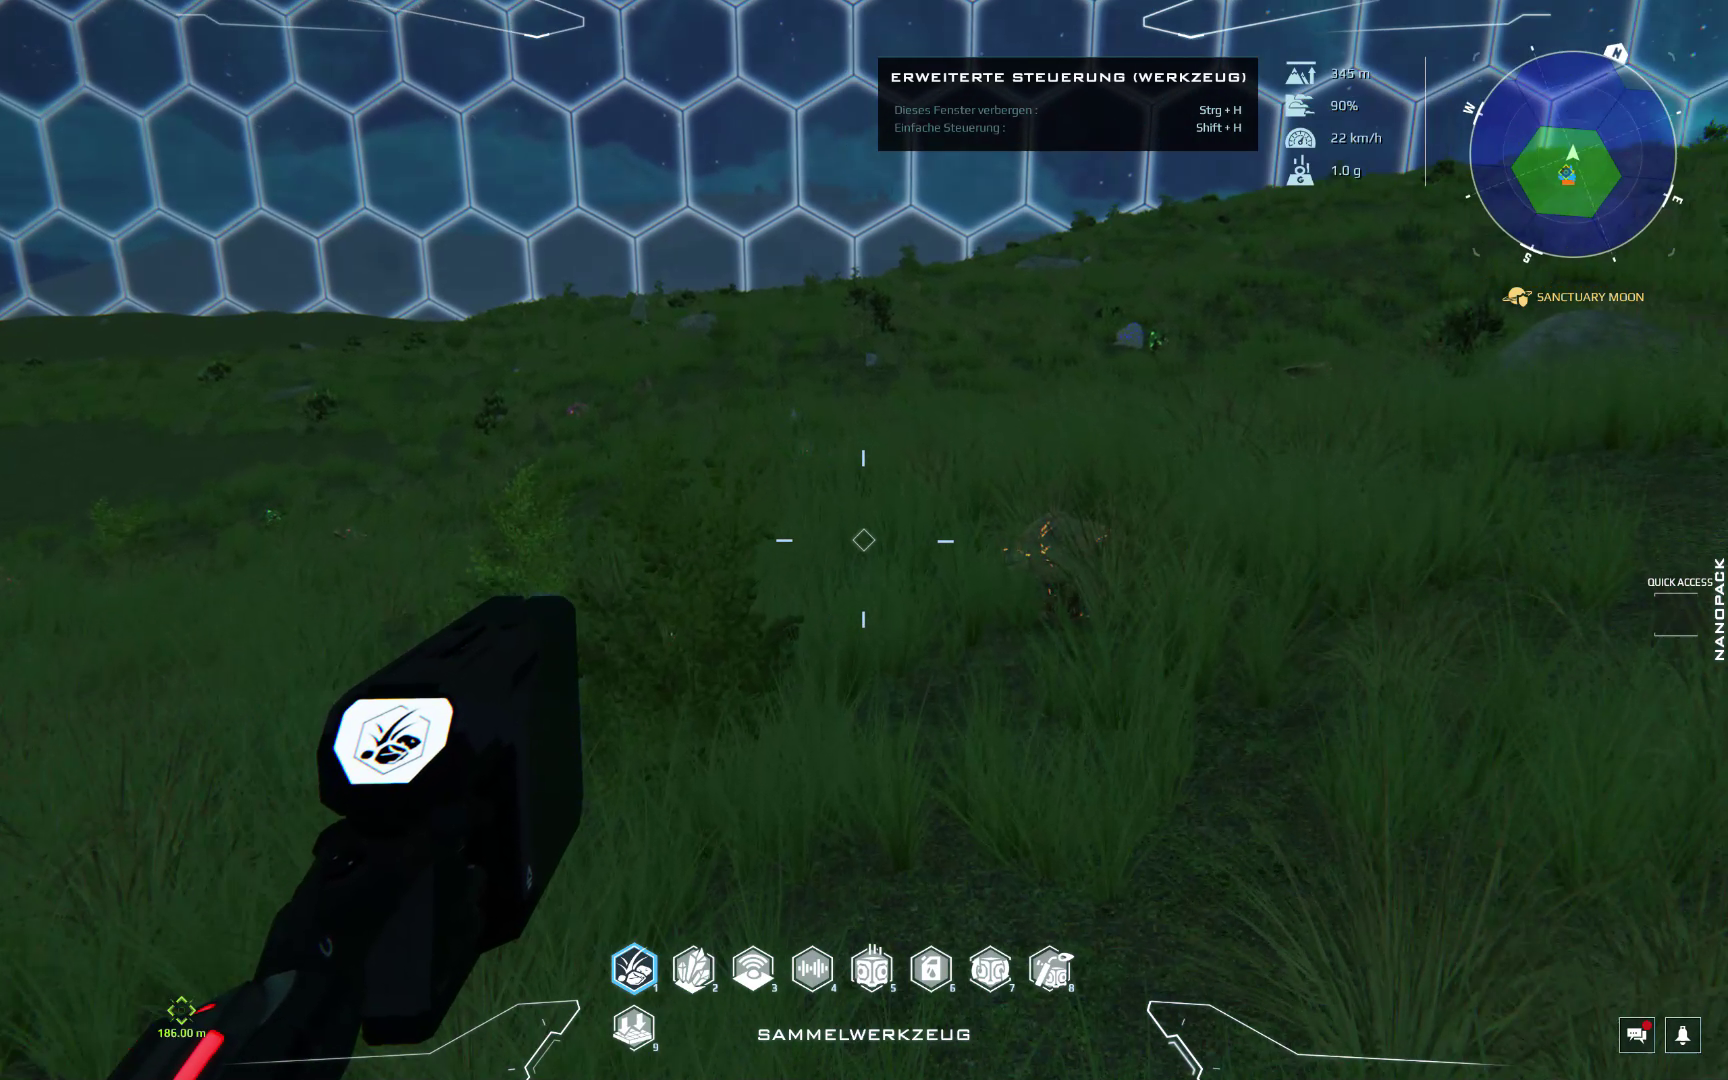Ore: (989, 506, 1135, 626), (1142, 327, 1172, 358), (259, 505, 289, 525), (559, 402, 590, 421), (332, 523, 365, 540)
